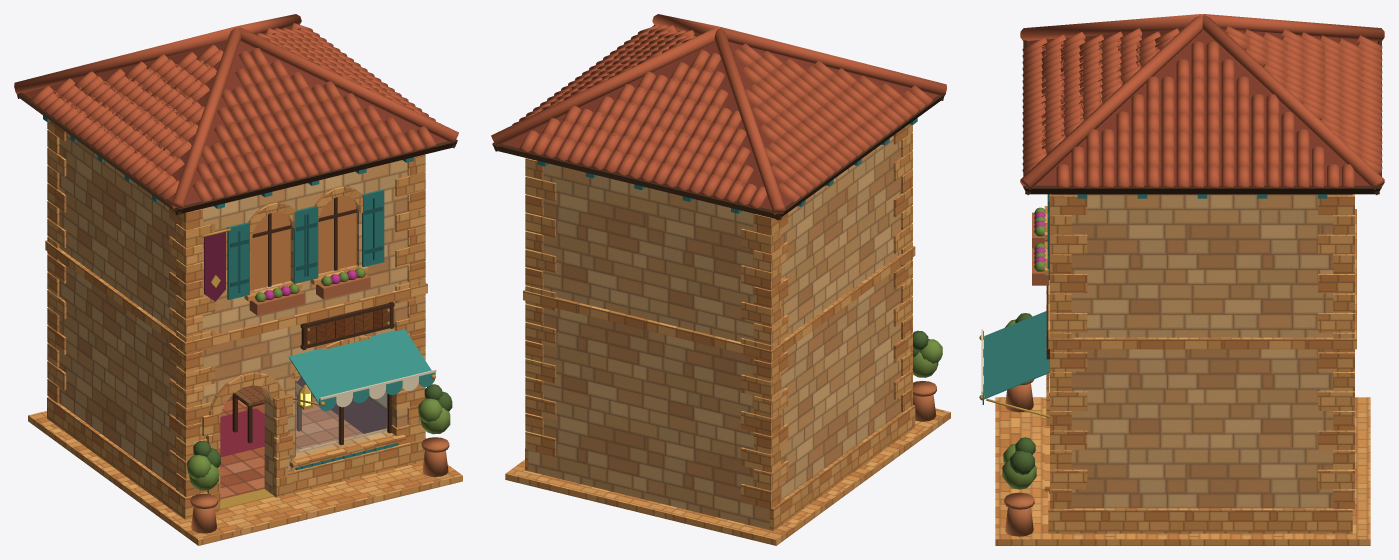
Rendered from house_small_awning.glb.
3 views of the same model, side by side, from view 1: azimuth 30°, elevation 25°; view 2: azimuth 150°, elevation 25°; view 3: azimuth 270°, elevation 25° (orthographic). The views are drawn at different scales.
Visible parts, largest first — view 1: exterior_walls, roof_tiles, exterior_trim, windows, roof_structure, opt_awning, planters, interior_floor, door_frame, sign_board, facade_details, interior_walls (+1 smaller); view 2: exterior_walls, roof_tiles, exterior_trim, roof_structure, planters; view 3: exterior_walls, roof_tiles, exterior_trim, roof_structure, planters, opt_awning.
Part boxes in pixels (box(x1,y1,x2,y2)): exterior_walls: box(58, 132, 408, 495); roof_tiles: box(14, 14, 458, 209); exterior_trim: box(28, 121, 462, 545); windows: box(227, 189, 398, 470); roof_structure: box(15, 27, 457, 215); opt_awning: box(288, 329, 436, 411); planters: box(187, 268, 452, 533); interior_floor: box(219, 395, 362, 499); door_frame: box(201, 372, 292, 512); sign_board: box(300, 302, 394, 350); facade_details: box(201, 228, 230, 301); interior_walls: box(295, 378, 386, 433); exterior_walls: box(528, 135, 901, 529); roof_tiles: box(491, 14, 946, 214); exterior_trim: box(505, 124, 950, 545); roof_structure: box(492, 25, 945, 220); planters: box(912, 330, 942, 421); exterior_walls: box(1052, 194, 1352, 508); roof_tiles: box(1020, 14, 1384, 189); exterior_trim: box(995, 194, 1370, 545); roof_structure: box(1023, 28, 1381, 198); planters: box(1002, 207, 1048, 536); opt_awning: box(979, 311, 1049, 417).
Size of the model in its own units: 6.07 by 8.46 by 6.75.
Materials: 26 (5 with a texture image).
